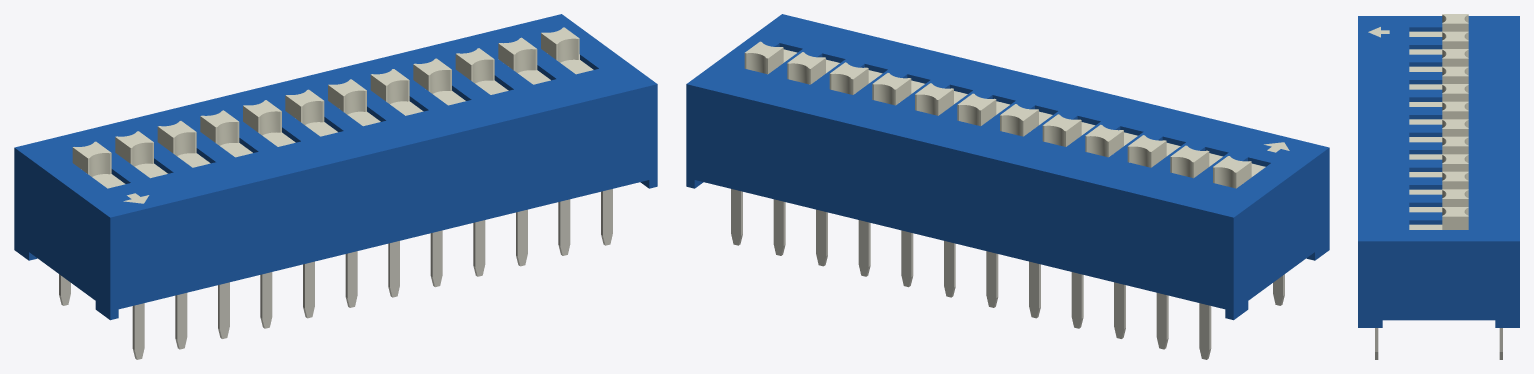
The model's file is kc-sw_dip_spstx12_slide_9.78x32.66mm_w7.62mm_p2.54mm.glb.
The picture shows the model from 3 angles, left to right: view 1: azimuth 30°, elevation 25°; view 2: azimuth 150°, elevation 25°; view 3: azimuth 270°, elevation 25°; orthographic projection. The views are drawn at different scales.
Visible parts, largest first — view 1: 0_0.16666666666666666_0.5_0, 0.75_0.75_0.6666666666666666_0, 0.6666666666666666_0.6666666666666666_0.5833333333333334_0.8; view 2: 0_0.16666666666666666_0.5_0, 0.75_0.75_0.6666666666666666_0, 0.6666666666666666_0.6666666666666666_0.5833333333333334_0.8; view 3: 0_0.16666666666666666_0.5_0, 0.75_0.75_0.6666666666666666_0, 0.6666666666666666_0.6666666666666666_0.5833333333333334_0.8.
Part boxes in pixels (x1,y1,x2,y2): 0_0.16666666666666666_0.5_0: (14, 14, 657, 320); 0.75_0.75_0.6666666666666666_0: (72, 27, 593, 203); 0.6666666666666666_0.6666666666666666_0.5833333333333334_0.8: (59, 189, 612, 359); 0_0.16666666666666666_0.5_0: (686, 14, 1329, 320); 0.75_0.75_0.6666666666666666_0: (744, 41, 1289, 188); 0.6666666666666666_0.6666666666666666_0.5833333333333334_0.8: (731, 189, 1284, 359); 0_0.16666666666666666_0.5_0: (1358, 16, 1519, 327); 0.75_0.75_0.6666666666666666_0: (1368, 14, 1468, 229); 0.6666666666666666_0.6666666666666666_0.5833333333333334_0.8: (1375, 328, 1502, 359).
Size of the model in its own units: 3.27 by 0.995 by 0.9901.
